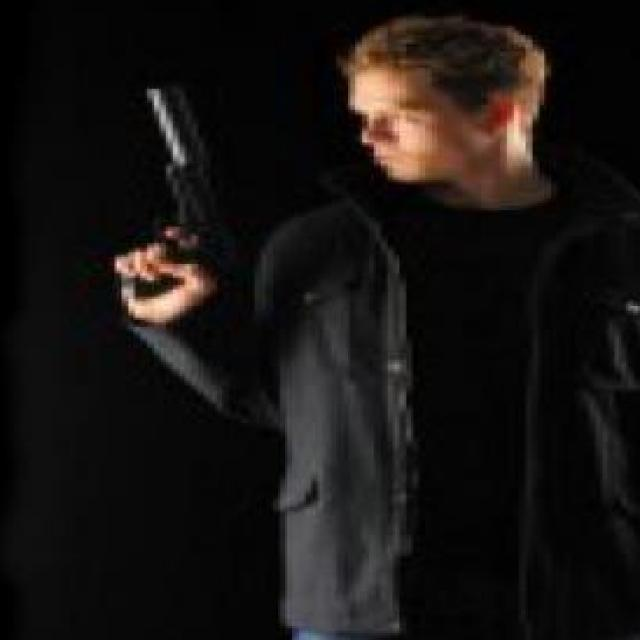pistol: (91, 77, 236, 311)
